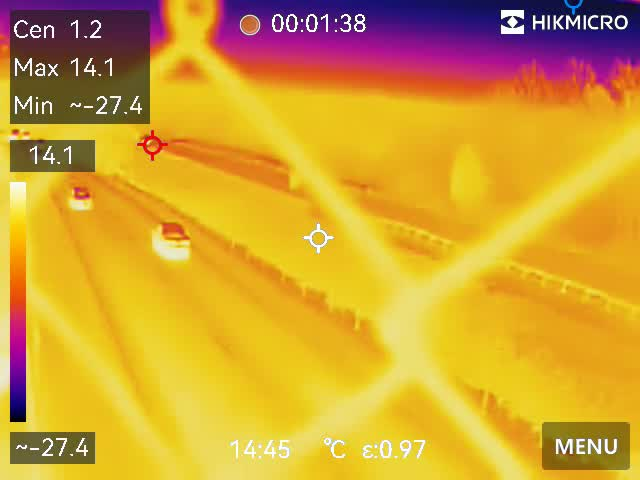vehicle: (149, 220, 196, 252), (70, 186, 100, 212)
